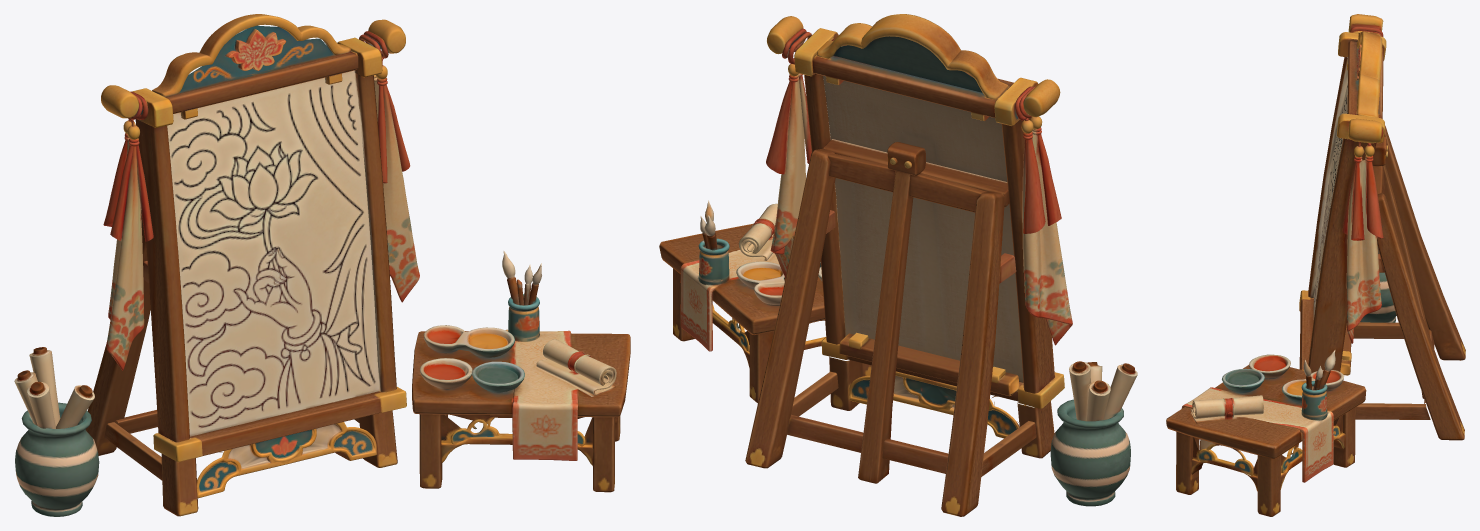
Rendered from coloring-station.glb.
3 views of the same model, side by side, from view 1: azimuth 30°, elevation 25°; view 2: azimuth 150°, elevation 25°; view 3: azimuth 270°, elevation 25° (orthographic). The views are drawn at different scales.
Parts seen in each view (by area): view 1: a4ee4efa_bfc9_4826_ab33_3e43c61130e9; view 2: a4ee4efa_bfc9_4826_ab33_3e43c61130e9; view 3: a4ee4efa_bfc9_4826_ab33_3e43c61130e9.
Part boxes in pixels (bbox=[...]): a4ee4efa_bfc9_4826_ab33_3e43c61130e9: bbox=[14, 14, 630, 516]; a4ee4efa_bfc9_4826_ab33_3e43c61130e9: bbox=[659, 14, 1137, 516]; a4ee4efa_bfc9_4826_ab33_3e43c61130e9: bbox=[1166, 14, 1465, 516].
Bounding box in the file's own units: 0.9995 × 0.7817 × 0.5894.
1 material, 1 textured.
